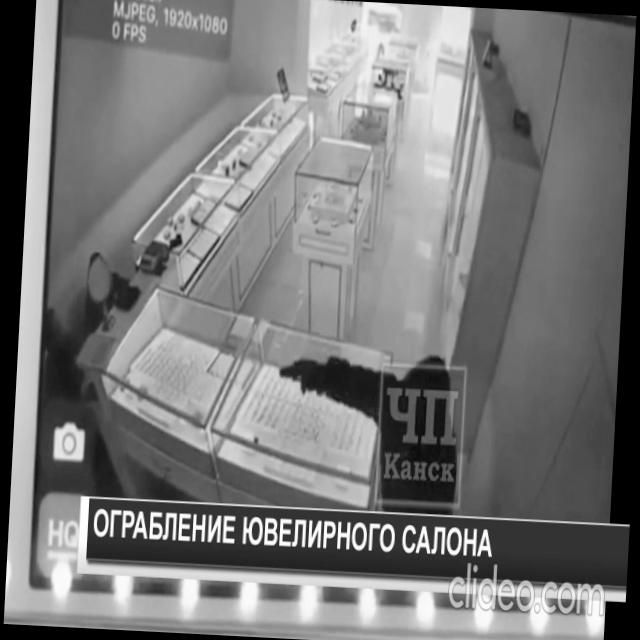gun: (278, 352, 302, 382)
person with a gun: (271, 344, 464, 518)
